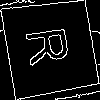R: (25, 23, 80, 67)
